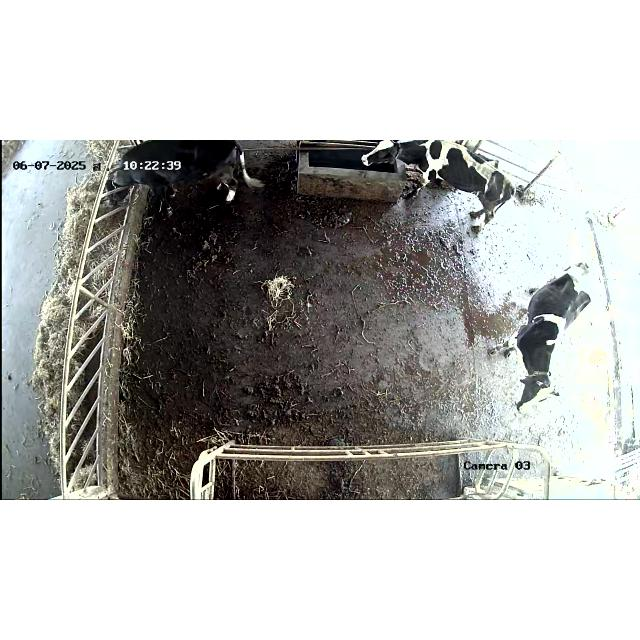stand: (488, 250, 608, 426)
